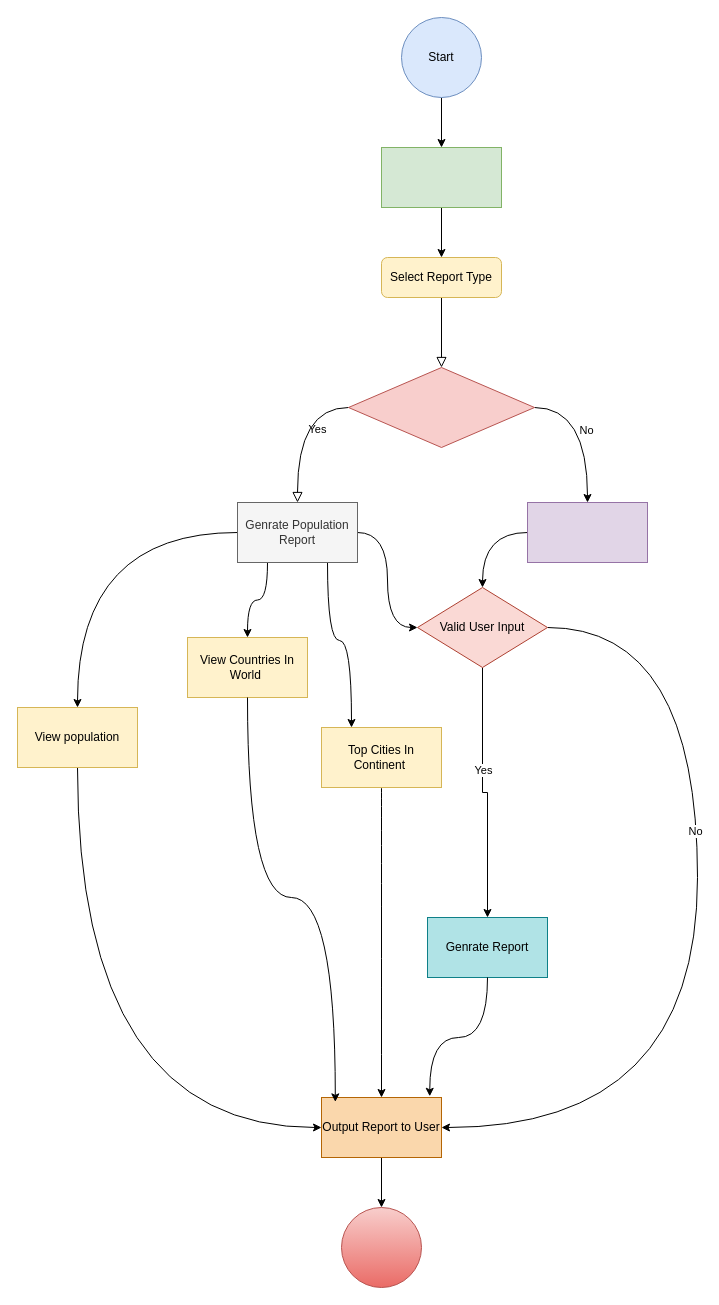
Some shapes in this 719 by 1305 pixel diagram are drawn without their labels. Here are the shapes that lost their labels. From the top down, the centre of each, then its label:
At (x=441, y=177): "Check User Request".
At (x=441, y=407): "Population Related Report".
At (x=587, y=532): "Genrate Language Speaker".
At (x=381, y=1247): "END".
